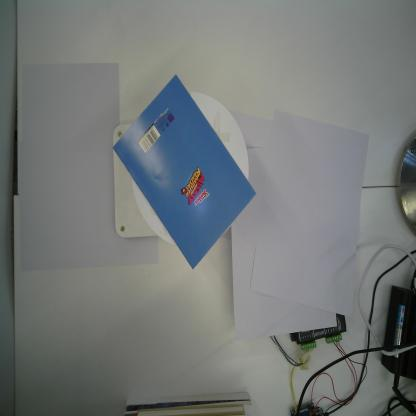Stationery: (112, 73, 257, 270)
